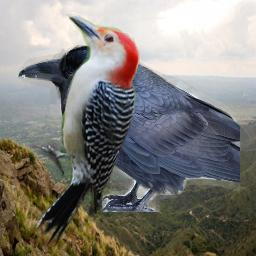Crow: (18, 45, 240, 212)
Woodpecker: (31, 14, 140, 247)
